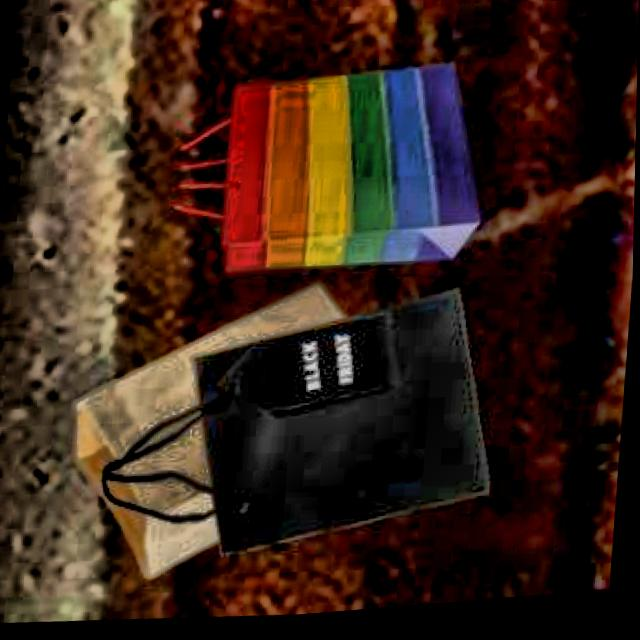Paper-bag: (87, 276, 522, 597), (43, 260, 421, 604), (152, 39, 494, 294)
